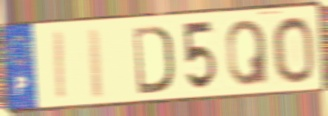5: (182, 18, 219, 93)
D: (131, 23, 176, 97)
I: (86, 26, 106, 102), (54, 30, 69, 103)
O: (269, 14, 317, 85)
Q: (225, 17, 271, 89)
